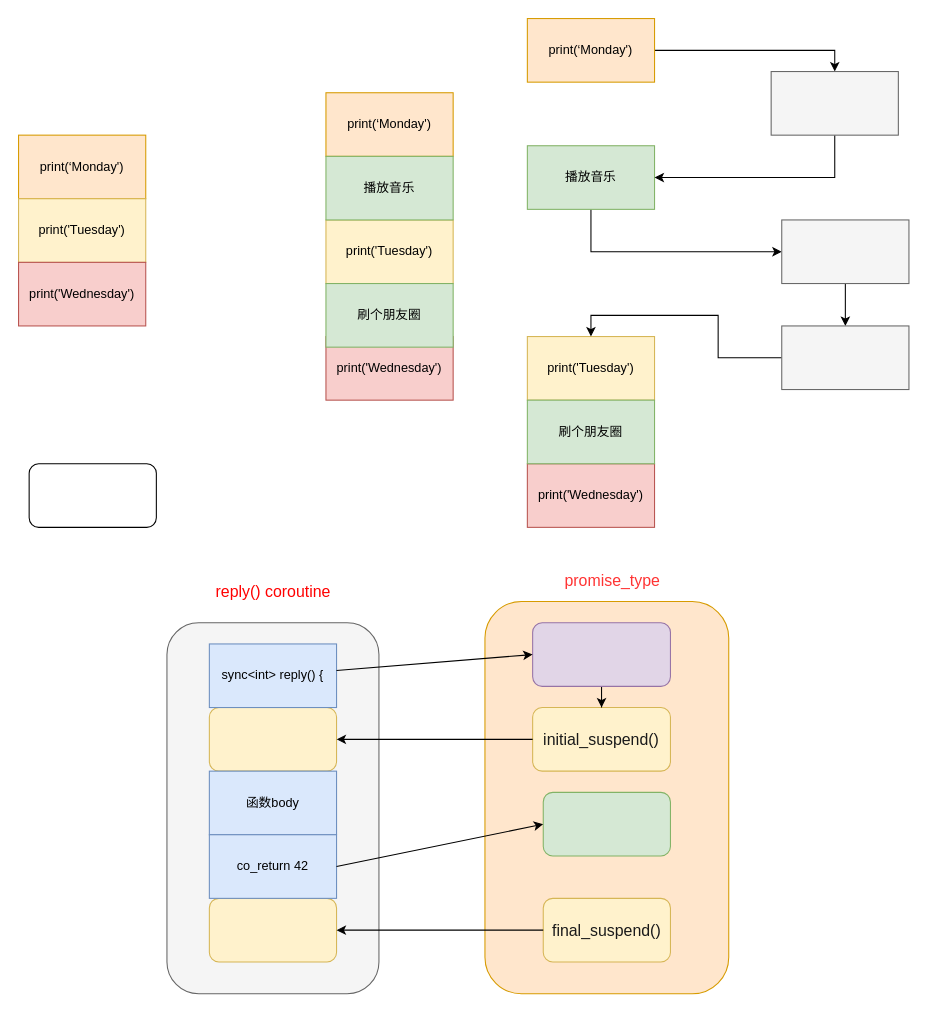
Some shapes in this 927 by 1012 pixel diagram are drawn without their labels. The shapes that lost their labels are listed below. From the top down, each one's box as (x1, y1, x2, y2) in pixels, then its label:
(770, 70, 898, 135): 修了个bug
(781, 219, 909, 284): 看了篇文章
(781, 325, 909, 390): 又看了篇文章
(532, 622, 670, 686): get_return_object()
(208, 706, 337, 771): inital_suspend point
(542, 791, 670, 856): return_value(T v)
(208, 897, 337, 962): final_suspend point
